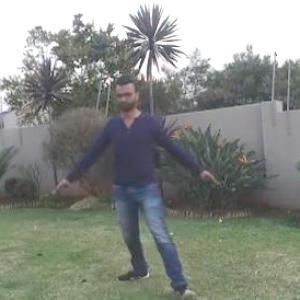land: (42, 65, 224, 298)
